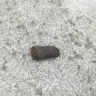Dog: (30, 45, 60, 60)
